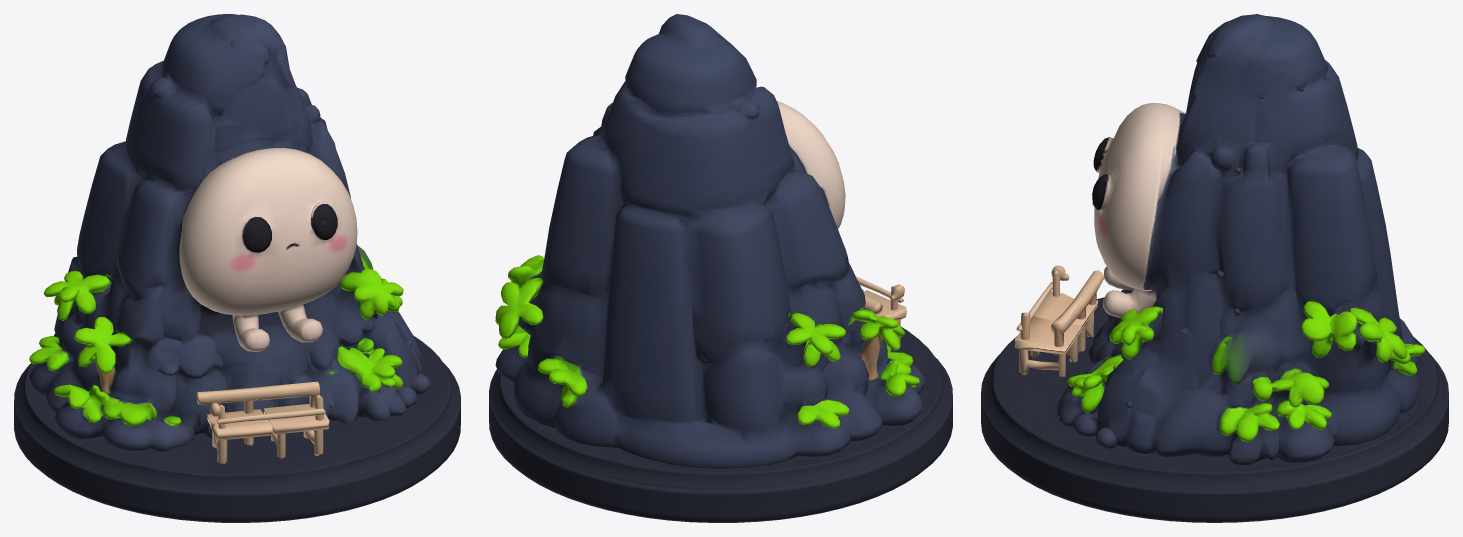
The model's file is malay-envi-3.glb.
The picture shows the model from 3 angles, left to right: view 1: azimuth 30°, elevation 25°; view 2: azimuth 150°, elevation 25°; view 3: azimuth 270°, elevation 25°; orthographic projection. The views are drawn at different scales.
Parts seen in each view (by area): view 1: tripo_node_342b5667-9482-4c24-9a49-693a5abfbde7; view 2: tripo_node_342b5667-9482-4c24-9a49-693a5abfbde7; view 3: tripo_node_342b5667-9482-4c24-9a49-693a5abfbde7.
Part boxes in pixels (x1,y1,x2,y2): tripo_node_342b5667-9482-4c24-9a49-693a5abfbde7: (14, 14, 460, 522); tripo_node_342b5667-9482-4c24-9a49-693a5abfbde7: (489, 14, 952, 522); tripo_node_342b5667-9482-4c24-9a49-693a5abfbde7: (981, 14, 1448, 522).
Size of the model in its own units: 0.9995 by 0.9819 by 0.9995.
Materials: 1 (1 with a texture image).
